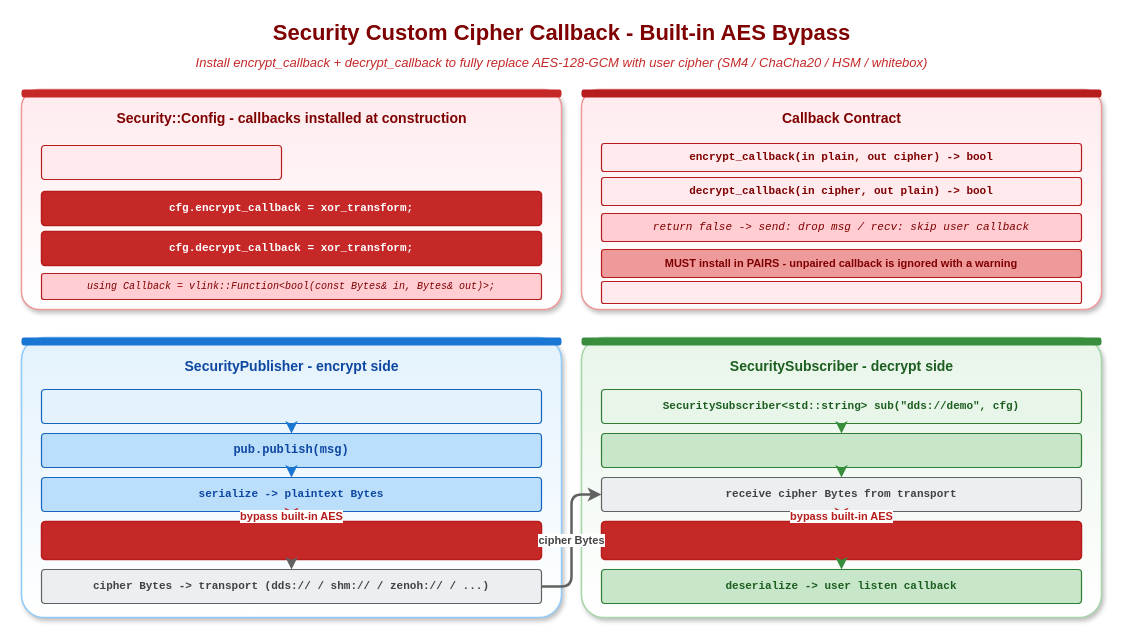
The diagram is 1126 pixels wide and 642 high, and some of its shapes have lost their labels. The shapes that lost their labels are listed below. From the top down, each one's centre as x and y in pixels, then its label:
point 161,162: Security::Config cfg;
point 841,292: empty input -> Security rejects before callback
point 291,406: SecurityPublisher<std::string> pub("dds://demo", cfg)
point 841,450: sub.listen([](const std::string& msg){ ... })
point 291,540: encrypt_callback(plain, &cipher)
point 841,540: decrypt_callback(cipher, &plain)
